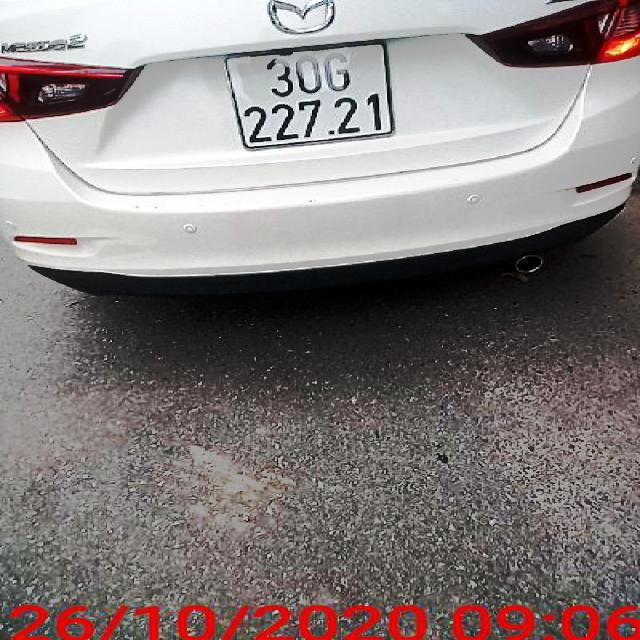license_plate: (225, 41, 395, 150)
